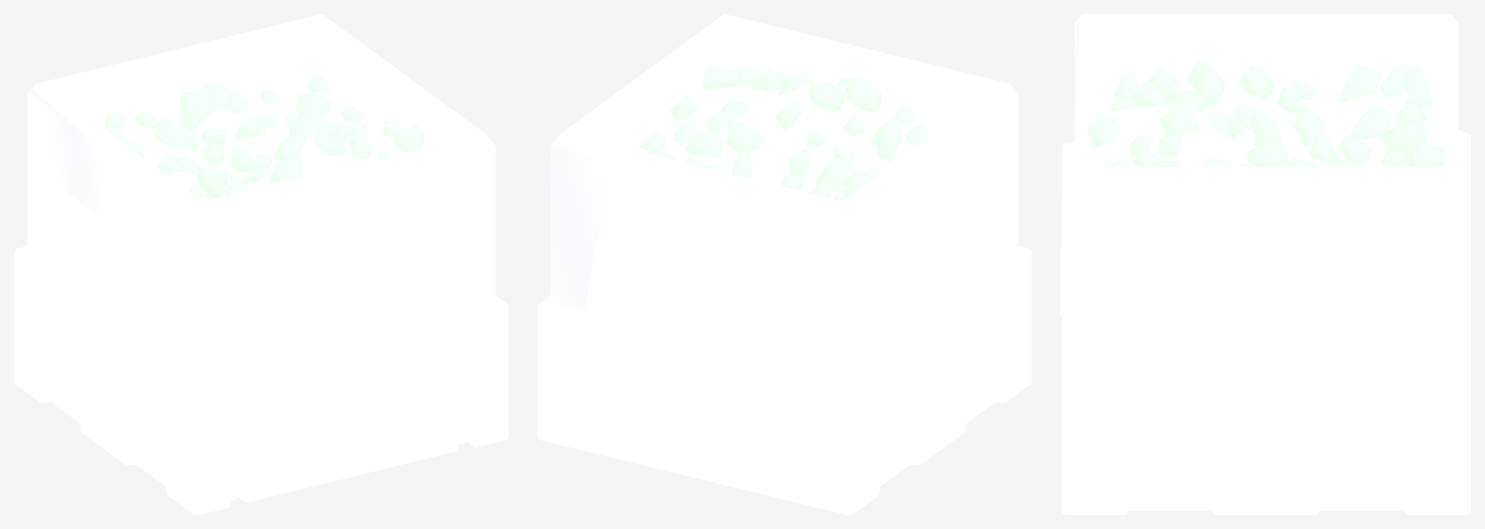
The model's file is CrateWGravel.glb.
3 renders of one model, left to right at view 1: azimuth 30°, elevation 25°; view 2: azimuth 150°, elevation 25°; view 3: azimuth 270°, elevation 25°, orthographic. The views are drawn at different scales.
Visible parts, largest first — view 1: Crate_w_Gravel; view 2: Crate_w_Gravel; view 3: Crate_w_Gravel.
Part boxes in pixels (bbox=[...]): Crate_w_Gravel: bbox=[14, 14, 508, 514]; Crate_w_Gravel: bbox=[537, 14, 1031, 514]; Crate_w_Gravel: bbox=[1060, 14, 1470, 514].
Bounding box in the file's own units: 0.7914 × 0.7141 × 0.7891.
